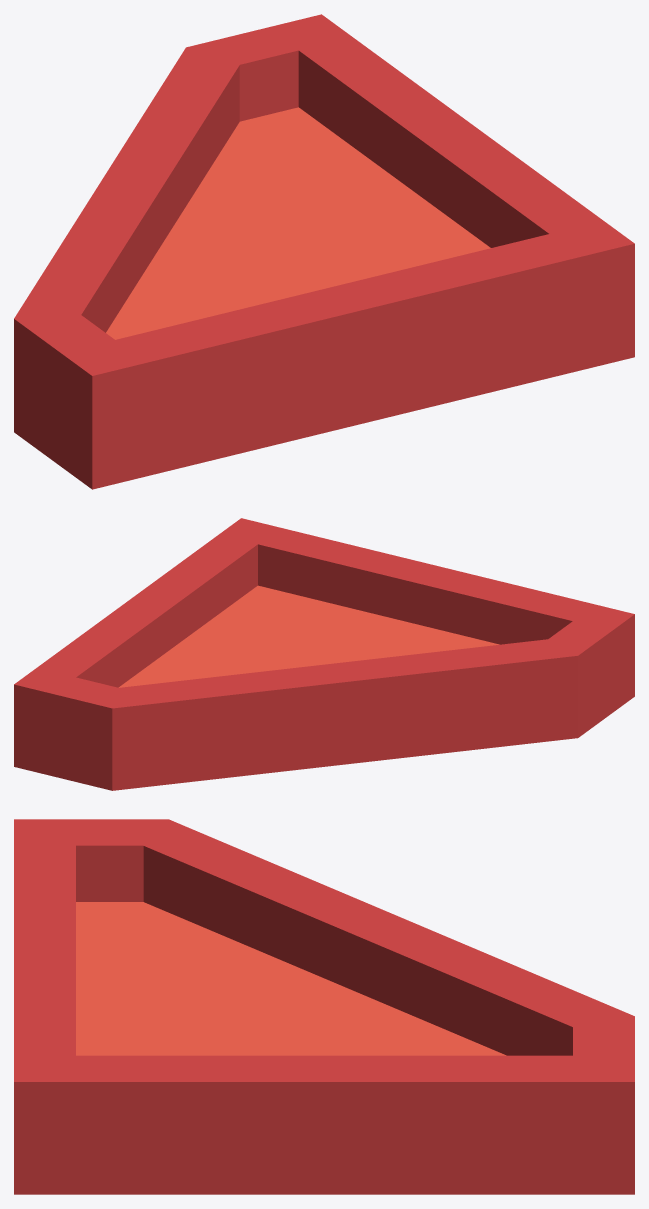
Rendered from ConorR.fbx.
The picture shows the model from 3 angles, top to bottom: view 1: azimuth 30°, elevation 25°; view 2: azimuth 150°, elevation 25°; view 3: azimuth 270°, elevation 25°; orthographic projection. The views are drawn at different scales.
Parts seen in each view (by area): view 1: roof_flatCornerLarge; view 2: roof_flatCornerLarge; view 3: roof_flatCornerLarge.
Boxes of the visible parts, <box> form: roof_flatCornerLarge: <box>14,14,634,489</box>; roof_flatCornerLarge: <box>14,518,634,790</box>; roof_flatCornerLarge: <box>14,819,634,1194</box>.
Size of the model in its own units: 10 by 2 by 10.
